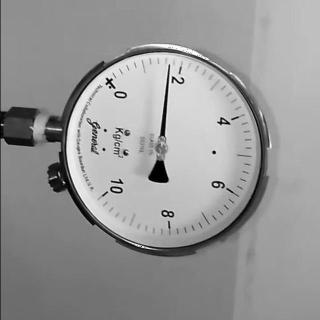gauge: (55, 20, 274, 263), (98, 72, 130, 104), (92, 183, 116, 209), (150, 139, 170, 159), (164, 62, 172, 72)
